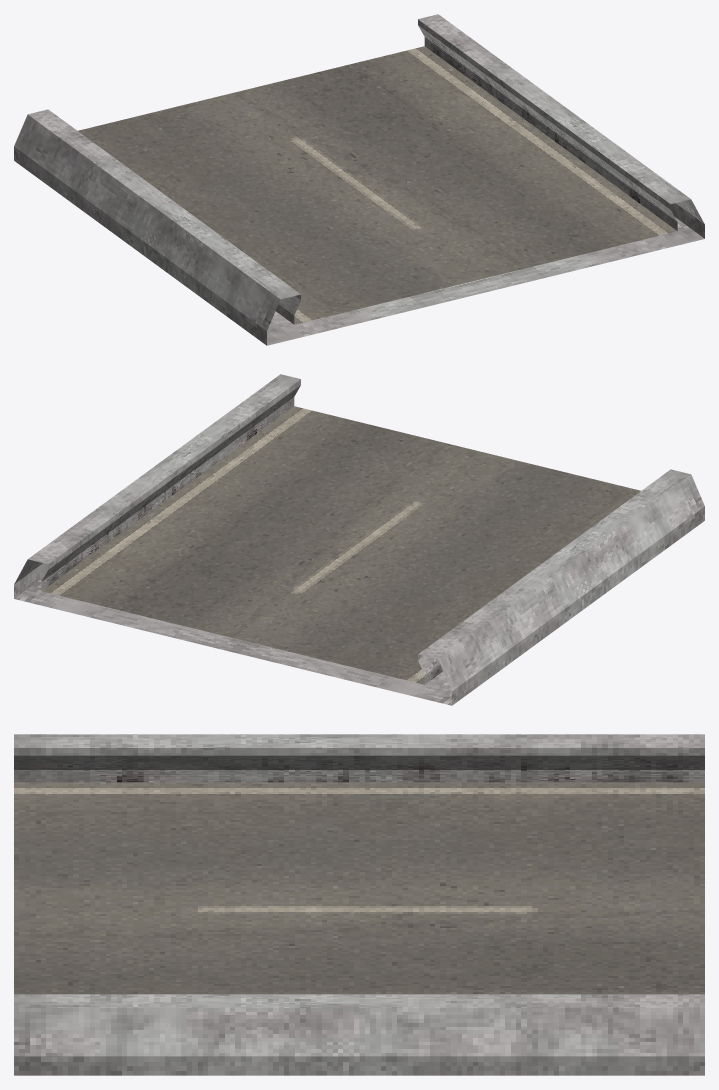
The model's file is road-Straight-Flat-Flat-Even-Center-Size1.glb.
3 views of the same model, one above another, from view 1: azimuth 30°, elevation 25°; view 2: azimuth 150°, elevation 25°; view 3: azimuth 270°, elevation 25° (orthographic). The views are drawn at different scales.
Visible parts, largest first — view 1: road-Straight-Flat-Flat-Even-Center-Size1; view 2: road-Straight-Flat-Flat-Even-Center-Size1; view 3: road-Straight-Flat-Flat-Even-Center-Size1.
Boxes of the visible parts, x1,y1,x2,y2 form: road-Straight-Flat-Flat-Even-Center-Size1: (14,14,704,345); road-Straight-Flat-Flat-Even-Center-Size1: (14,374,704,705); road-Straight-Flat-Flat-Even-Center-Size1: (14,734,704,1075).
Bounding box in the file's own units: 1 × 0.0938 × 1.
Materials: 2 (2 with a texture image).
